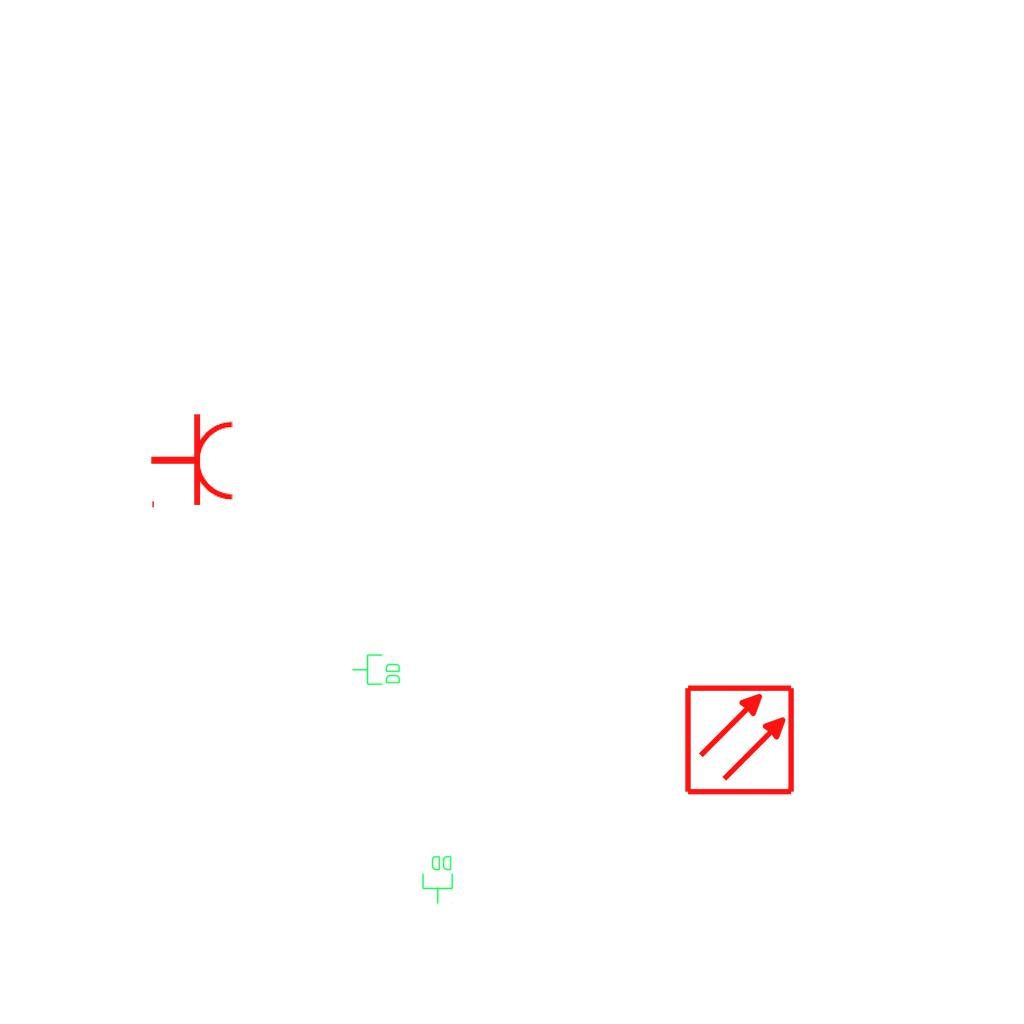Datenanschluss_zweifach: (351, 653, 402, 687), (421, 854, 455, 905)
RMO_Rauchmelder_optischer: (683, 683, 796, 796)
Schukosteckdose_einfach: (149, 412, 236, 512)
